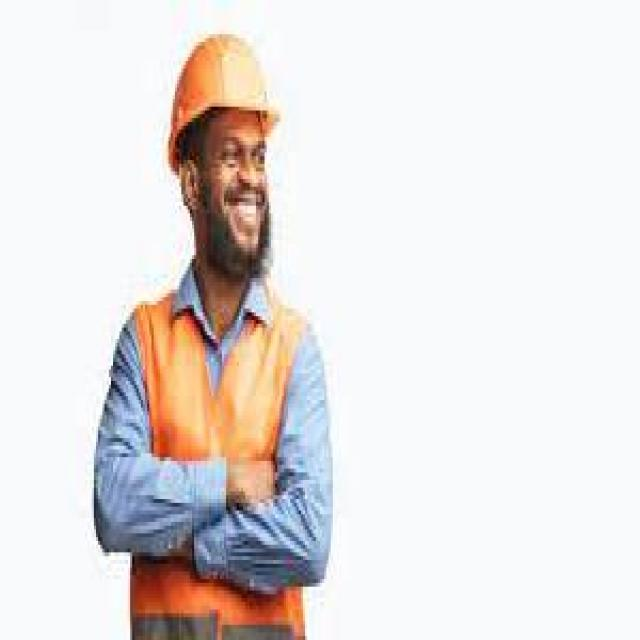Reflective-Jacket: (122, 274, 316, 640)
Safety-Helmet: (160, 19, 286, 160)
